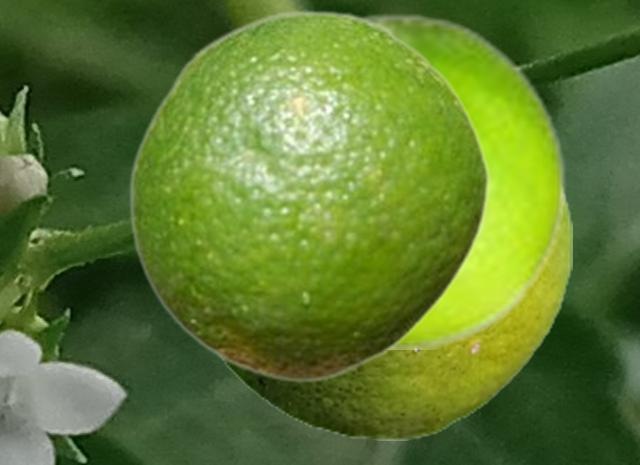calamansi: (128, 9, 489, 383), (215, 186, 571, 439), (351, 11, 567, 348)
